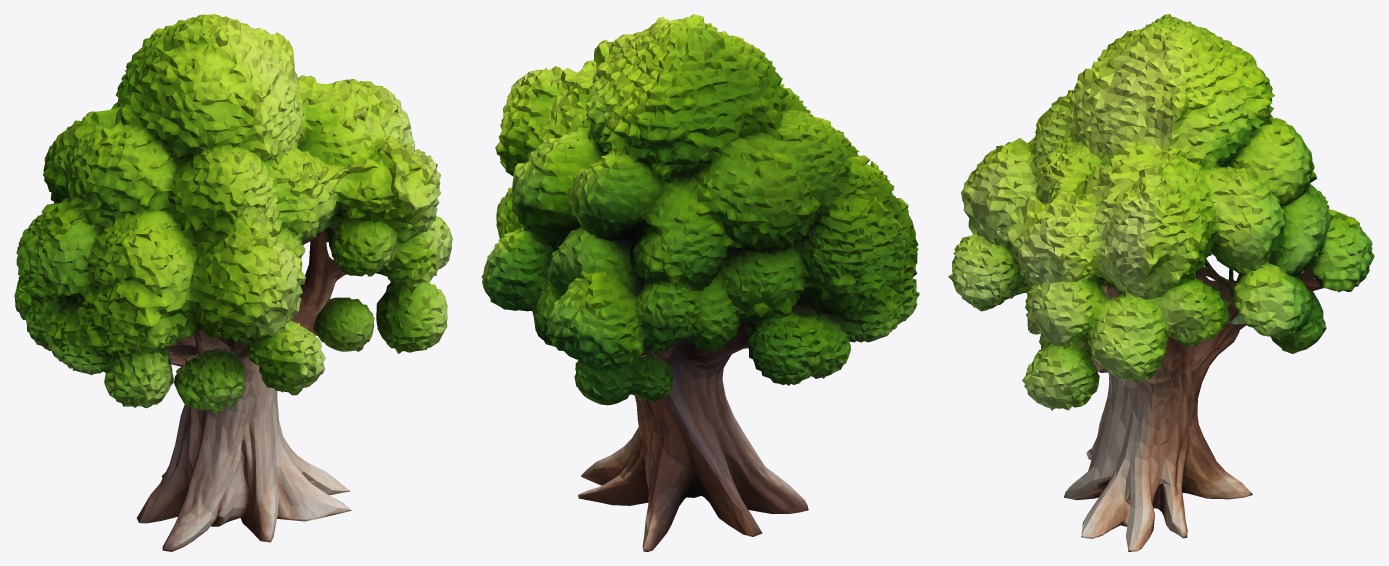
The model's file is big_tree.glb.
3 renders of one model, left to right at view 1: azimuth 30°, elevation 25°; view 2: azimuth 150°, elevation 25°; view 3: azimuth 270°, elevation 25°, orthographic. The views are drawn at different scales.
Parts seen in each view (by area): view 1: world; view 2: world; view 3: world.
Part boxes in pixels (<box>): world: <box>14,14,452,551</box>; world: <box>481,14,919,551</box>; world: <box>948,14,1374,551</box>.
Bounding box in the file's own units: 0.8657 × 0.9986 × 0.8196.
1 material, 1 textured.
